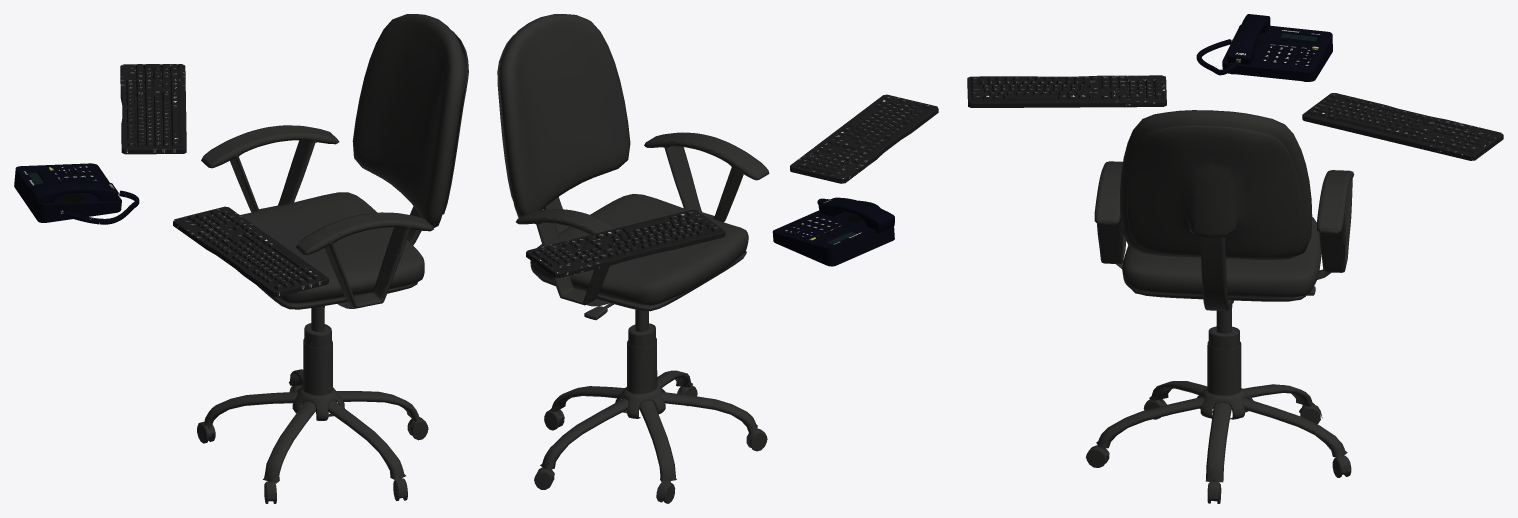
Rendered from postazioniparte3.gltf.
The picture shows the model from 3 angles, left to right: view 1: azimuth 30°, elevation 25°; view 2: azimuth 150°, elevation 25°; view 3: azimuth 270°, elevation 25°; orthographic projection. The views are drawn at different scales.
Visible parts, largest first — view 1: Lello Sedia, Lello Tastiera Sinstra, Lello Tastiera DX, Lello Telefono; view 2: Lello Sedia, Lello Tastiera DX, Lello Tastiera Sinstra, Lello Telefono; view 3: Lello Sedia, Lello Tastiera Sinstra, Lello Tastiera DX, Lello Telefono.
Boxes of the visible parts, box(x1,y1,x2,y2) form: Lello Sedia: box(197, 14, 468, 503); Lello Tastiera Sinstra: box(173, 206, 328, 297); Lello Tastiera DX: box(120, 64, 186, 154); Lello Telefono: box(14, 163, 139, 224); Lello Sedia: box(497, 14, 769, 503); Lello Tastiera DX: box(526, 209, 725, 277); Lello Tastiera Sinstra: box(790, 94, 938, 183); Lello Telefono: box(772, 197, 894, 266); Lello Sedia: box(1086, 110, 1354, 503); Lello Tastiera Sinstra: box(967, 75, 1166, 107); Lello Tastiera DX: box(1302, 93, 1503, 160); Lello Telefono: box(1196, 14, 1332, 81).
Size of the model in its own units: 1.04 by 1.01 by 1.22.
4 materials, 3 textured.
